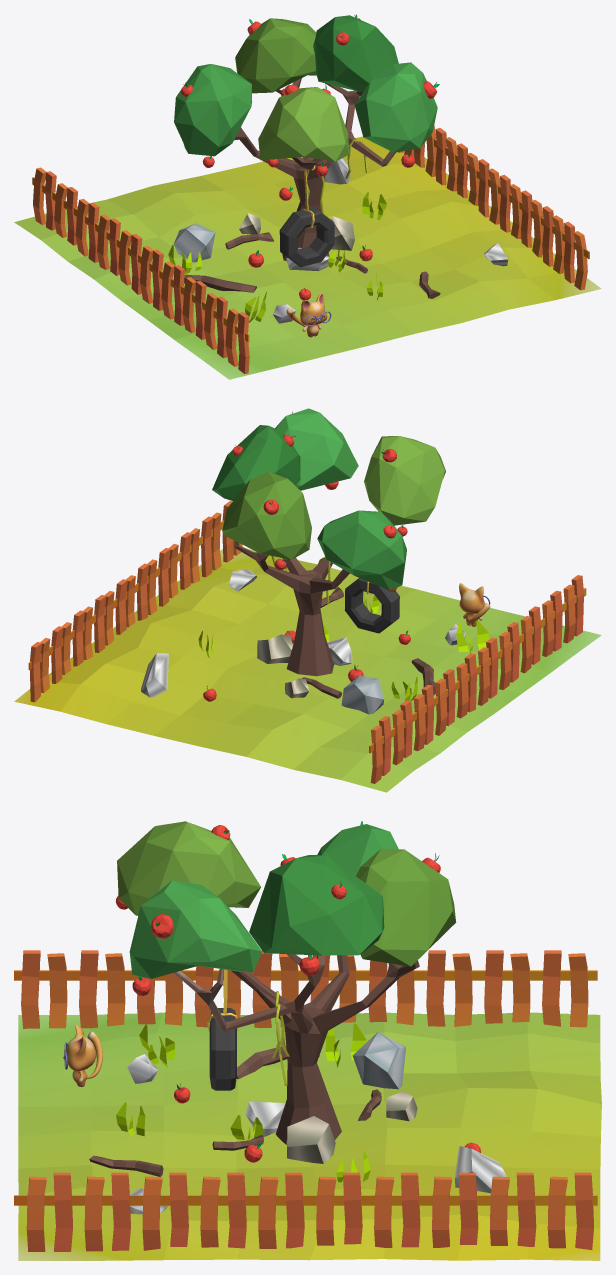
The model's file is arbol.glb.
The picture shows the model from 3 angles, top to bottom: view 1: azimuth 30°, elevation 25°; view 2: azimuth 150°, elevation 25°; view 3: azimuth 270°, elevation 25°; orthographic projection. The views are drawn at different scales.
Visible parts, largest first — view 1: Plane, Icosphere, Cube.001_0, Cube.002_0, Cube_0, llanta, LowPolyRock.003, cat, Cube.003_0, Cylinder.001, LowPolyRock.005, LowPolyRock.006; view 2: Plane, Icosphere, Cube.001_0, Cube.002_0, Cube_0, llanta, LowPolyRock.003, LowPolyRock.006, cat, LowPolyRock.005, Cube.003_0, LowPolyRock.004 (+1 smaller); view 3: Plane, Icosphere, Cube.002_0, Cube.001_0, Cube_0, Cube.004_0, Cube.003_0, LowPolyRock.003, llanta, LowPolyRock.005, cat, LowPolyRock.006 (+6 smaller).
Boxes of the visible parts, <box> form: Plane: <box>14,136,601,379</box>; Icosphere: <box>174,15,437,161</box>; Cube.001_0: <box>33,167,249,373</box>; Cube.002_0: <box>398,125,587,290</box>; Cube_0: <box>234,78,395,260</box>; llanta: <box>279,207,334,267</box>; LowPolyRock.003: <box>173,223,215,262</box>; cat: <box>286,292,331,337</box>; Cube.003_0: <box>32,177,249,342</box>; Cylinder.001: <box>184,275,256,292</box>; LowPolyRock.005: <box>331,216,354,250</box>; LowPolyRock.006: <box>324,158,350,184</box>; Plane: <box>14,548,601,792</box>; Icosphere: <box>212,408,445,590</box>; Cube.001_0: <box>370,575,583,783</box>; Cube.002_0: <box>30,501,242,702</box>; Cube_0: <box>234,541,372,676</box>; llanta: <box>344,578,399,633</box>; LowPolyRock.003: <box>341,675,384,714</box>; LowPolyRock.006: <box>141,653,168,697</box>; cat: <box>459,583,490,626</box>; LowPolyRock.005: <box>257,634,292,663</box>; Cube.003_0: <box>369,588,586,753</box>; LowPolyRock.004: <box>327,637,352,665</box>; Plane: <box>18,1012,601,1260</box>; Icosphere: <box>117,821,456,978</box>; Cube.002_0: <box>26,1172,593,1251</box>; Cube.001_0: <box>21,950,588,1028</box>; Cube_0: <box>174,954,419,1144</box>; Cube.004_0: <box>14,1195,597,1205</box>; Cube.003_0: <box>14,970,597,980</box>; LowPolyRock.003: <box>352,1032,405,1089</box>; llanta: <box>209,1008,236,1090</box>; LowPolyRock.005: <box>287,1116,335,1163</box>; cat: <box>63,1024,102,1086</box>; LowPolyRock.006: <box>454,1146,506,1193</box>.
Size of the model in its own units: 16.92 by 10.11 by 16.97.
Materials: 2 (2 with a texture image).
